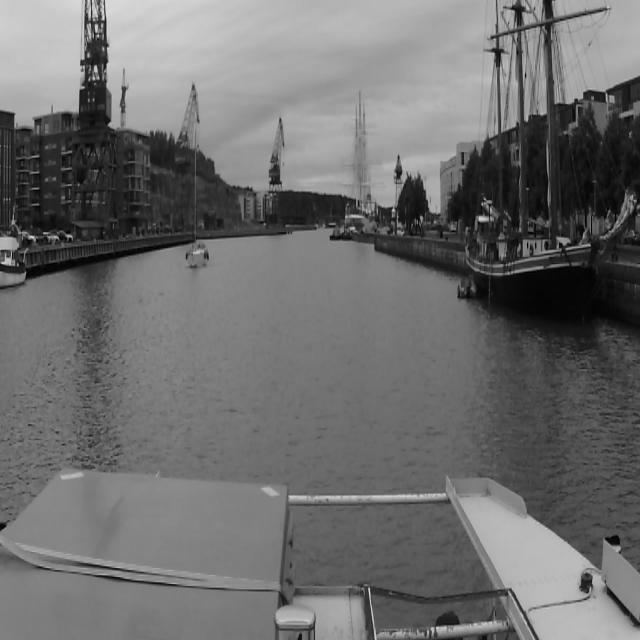ship: (448, 0, 635, 319), (343, 89, 377, 226), (182, 126, 208, 274), (1, 231, 27, 292), (330, 225, 344, 245)
